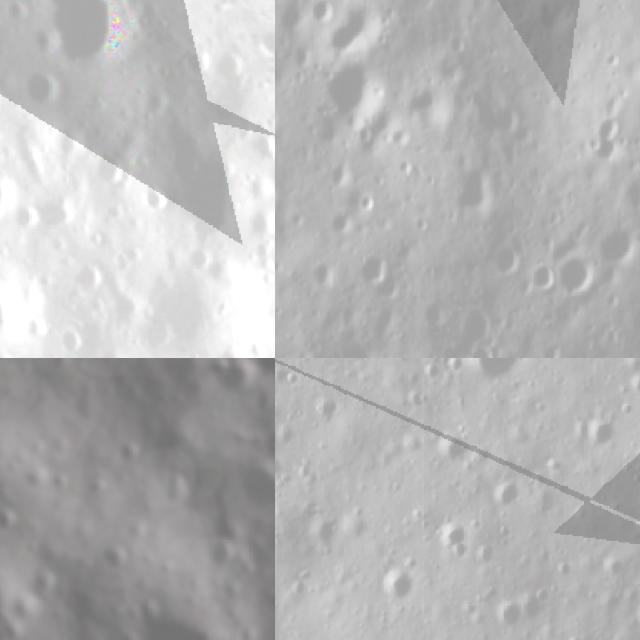crater: (20, 0, 160, 90), (6, 166, 97, 248), (0, 232, 54, 358), (325, 51, 387, 128), (11, 57, 77, 124), (0, 138, 44, 233), (142, 599, 225, 640), (60, 251, 114, 307), (193, 320, 268, 358), (334, 0, 381, 60), (546, 252, 598, 303), (591, 219, 640, 273), (572, 408, 620, 459), (130, 168, 176, 218), (300, 509, 342, 562), (380, 564, 426, 612), (45, 315, 96, 358), (424, 427, 470, 473), (482, 591, 525, 640), (214, 358, 254, 408), (433, 515, 474, 562), (489, 471, 526, 522), (459, 358, 525, 386), (240, 457, 275, 509), (359, 238, 388, 296), (204, 537, 244, 579), (0, 503, 29, 544), (528, 257, 560, 291), (103, 542, 132, 578), (598, 549, 626, 582), (334, 358, 375, 378), (624, 368, 640, 407), (630, 597, 640, 638), (275, 171, 283, 214)
